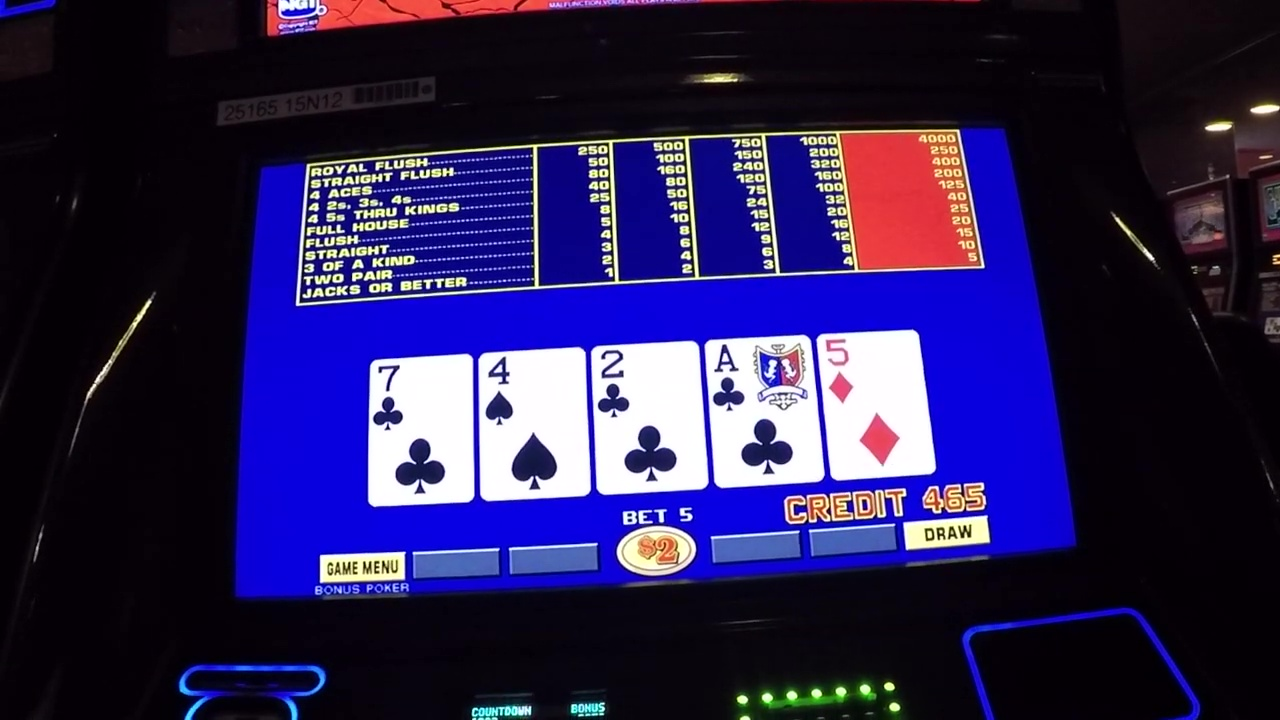C2: (594, 348, 699, 422)
C4: (482, 355, 582, 429)
C7: (374, 361, 469, 430)
CA: (708, 341, 811, 412)
D5: (825, 340, 921, 408)
